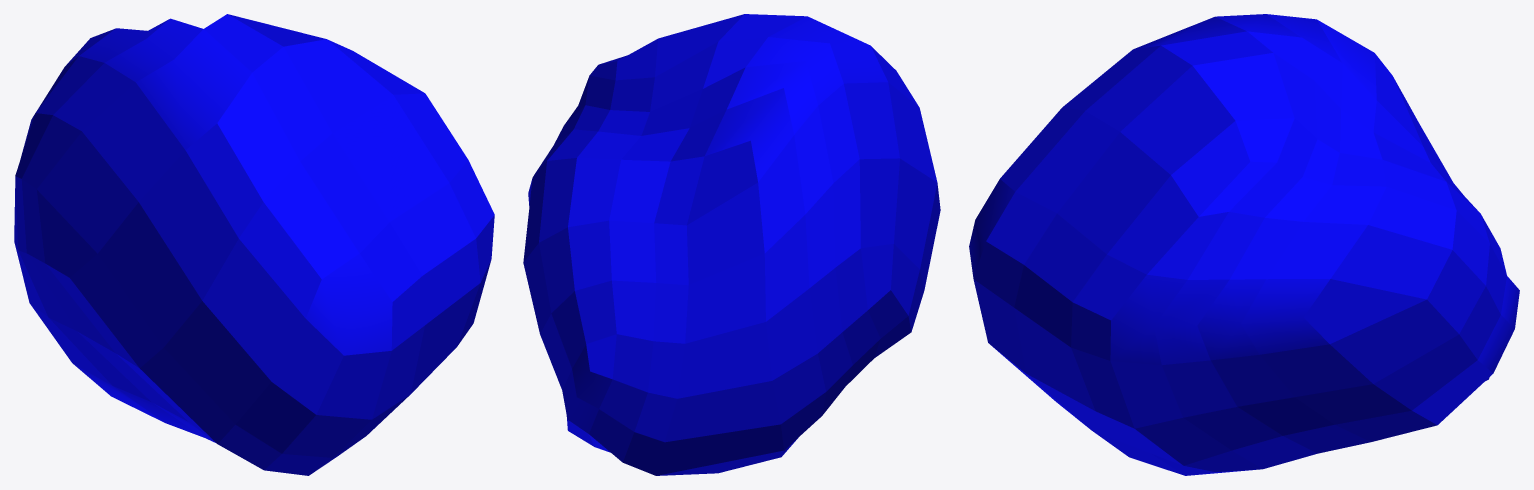
Rendered from ROCK_1.fbx.
The picture shows the model from 3 angles, left to right: view 1: azimuth 30°, elevation 25°; view 2: azimuth 150°, elevation 25°; view 3: azimuth 270°, elevation 25°; orthographic projection. The views are drawn at different scales.
Visible parts, largest first — view 1: ROCK_2; view 2: ROCK_2; view 3: ROCK_2.
Part boxes in pixels (x1,y1,x2,y2): ROCK_2: [14, 14, 494, 475]; ROCK_2: [523, 14, 940, 475]; ROCK_2: [969, 14, 1519, 475].
Bounding box in the file's own units: 98.16 × 103 × 132.
